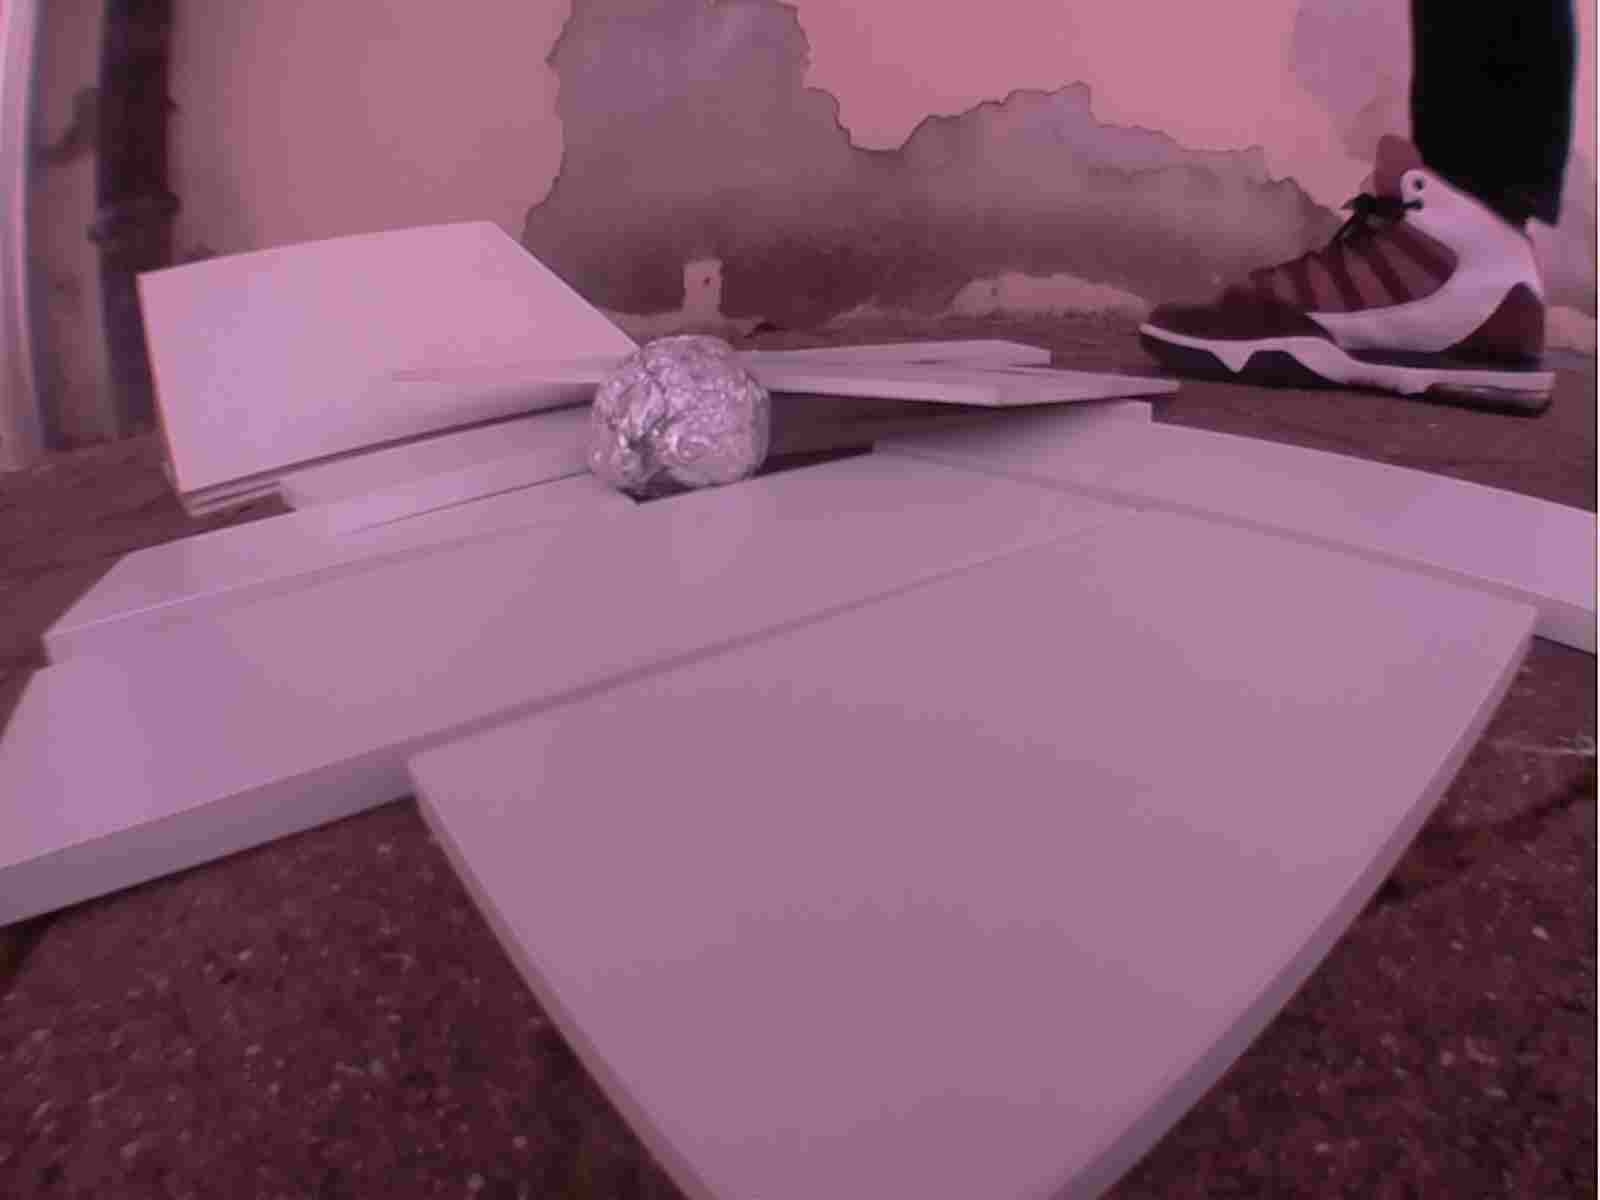bianca: (585, 334, 774, 502)
